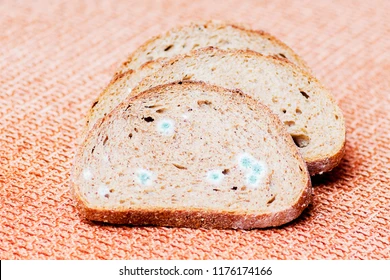mold_bread: (239, 151, 266, 188), (132, 167, 154, 186), (204, 168, 223, 185), (156, 118, 175, 133), (83, 166, 95, 183), (98, 184, 111, 197), (179, 113, 191, 120)
